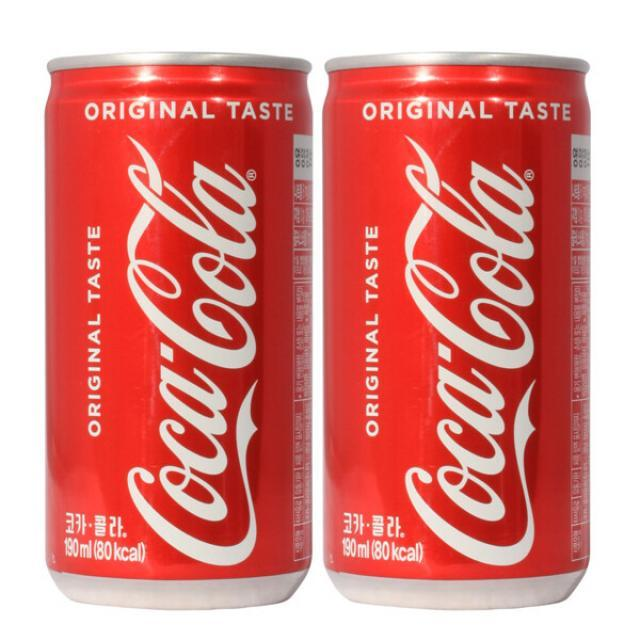coca-cola: (319, 43, 596, 617), (41, 48, 320, 614)
